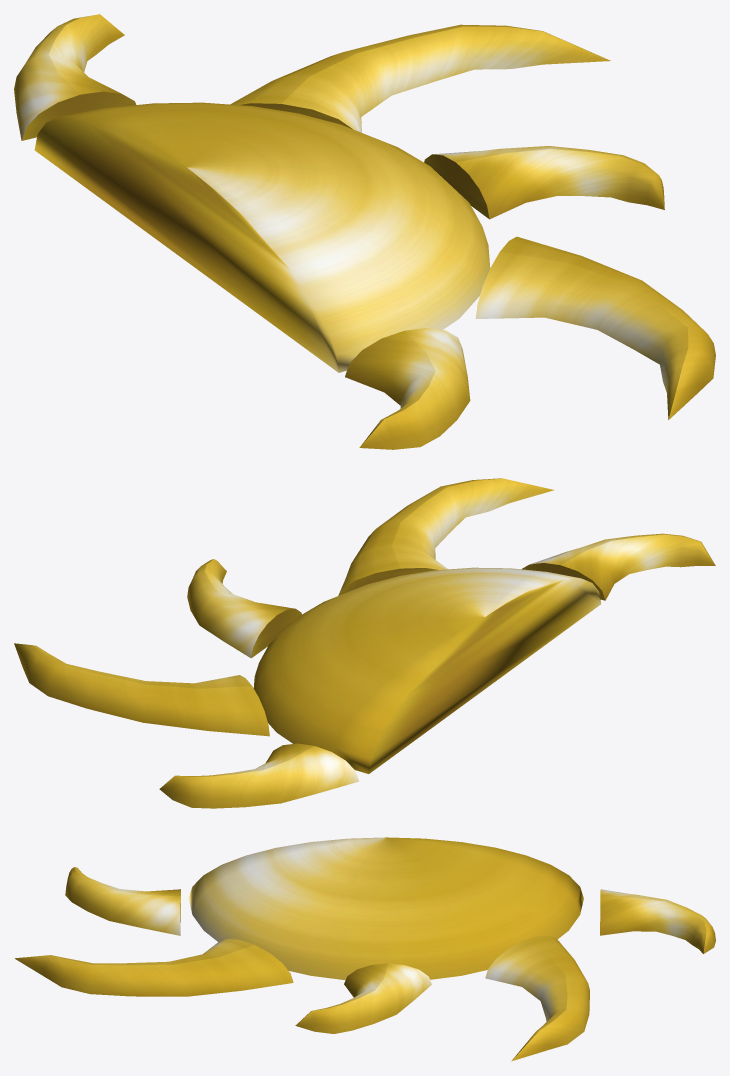
Rendered from sun1.FBX.
The picture shows the model from 3 angles, top to bottom: view 1: azimuth 30°, elevation 25°; view 2: azimuth 150°, elevation 25°; view 3: azimuth 270°, elevation 25°; orthographic projection. The views are drawn at different scales.
Parts seen in each view (by area): view 1: Object001; view 2: Object001; view 3: Object001.
Part boxes in pixels (x1,y1,x2,y2): Object001: (14, 14, 715, 449); Object001: (14, 478, 715, 808); Object001: (14, 837, 715, 1061).
Bounding box in the file's own units: 185 × 28.82 × 295.
1 material, 1 textured.
